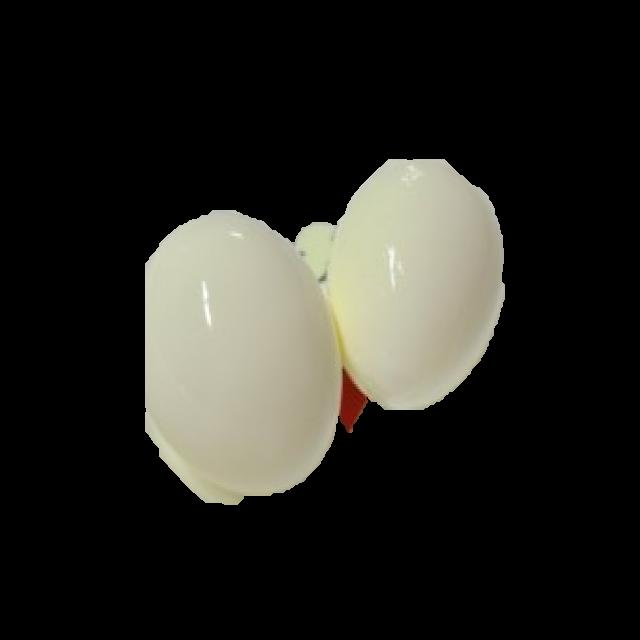eggs: (137, 204, 340, 512), (341, 174, 509, 401)
